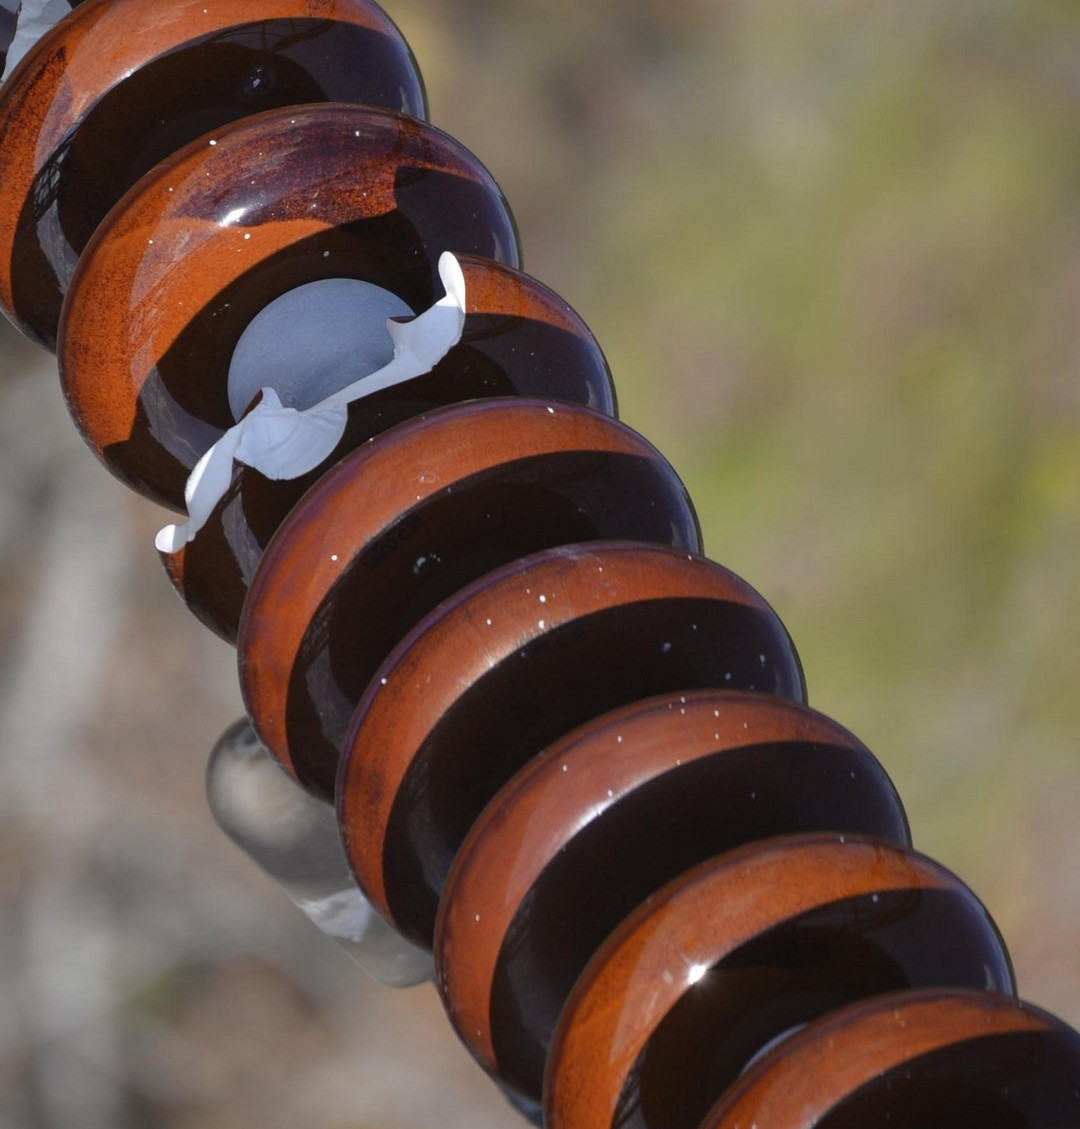insulator breakage: (146, 241, 605, 658)
